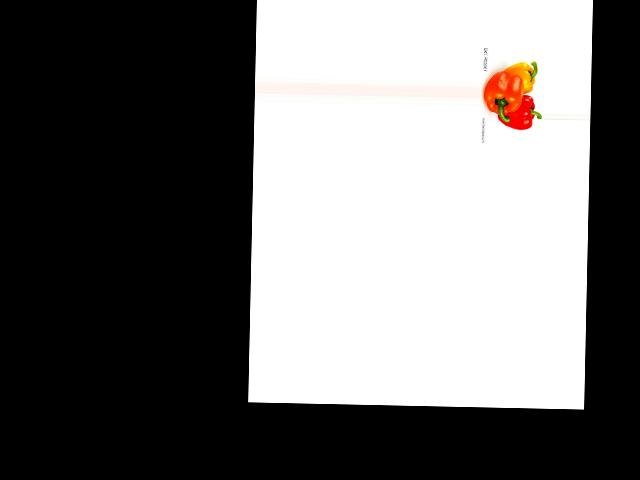bell_pepper: (502, 59, 539, 95)
